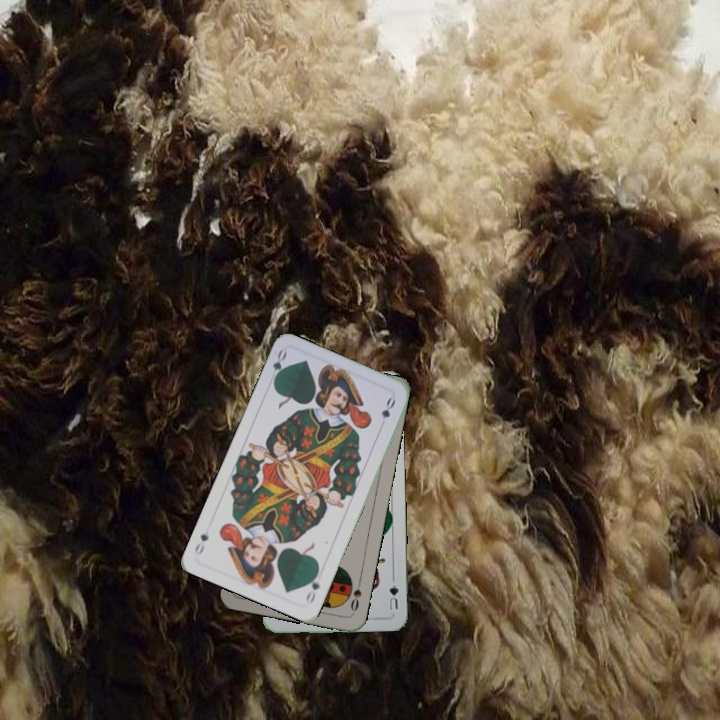GO: (302, 566, 323, 606), (268, 346, 289, 386)
GU: (385, 581, 401, 612)
SO: (346, 576, 364, 614)
